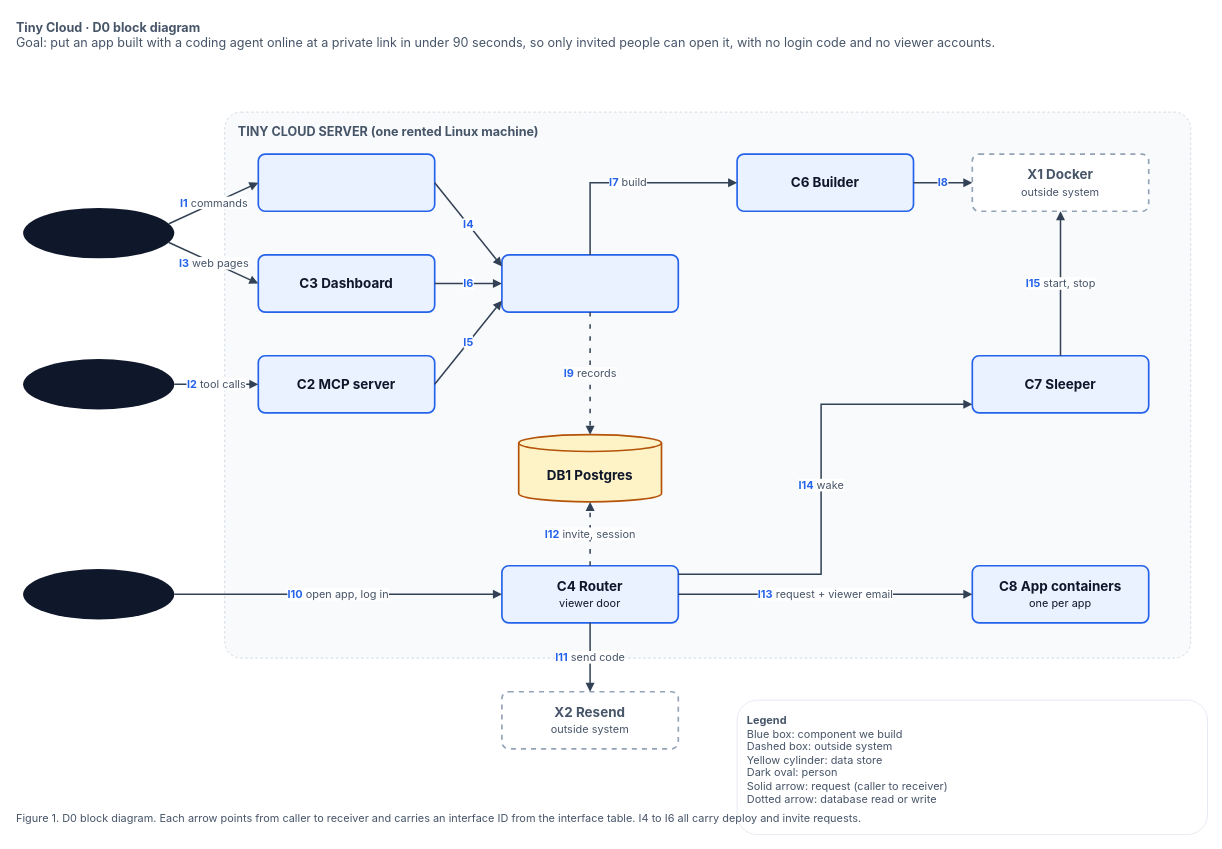
Some shapes in this 1222 by 849 pixel diagram are drawn without their labels. Each missing label, with the box of its shape:
C1 tiny CLI: (257, 153, 435, 212)
C5 Control API owner door: (501, 254, 679, 312)
Coding agent: (23, 359, 174, 409)
Owner: (23, 207, 174, 258)
Viewer: (23, 569, 174, 619)
